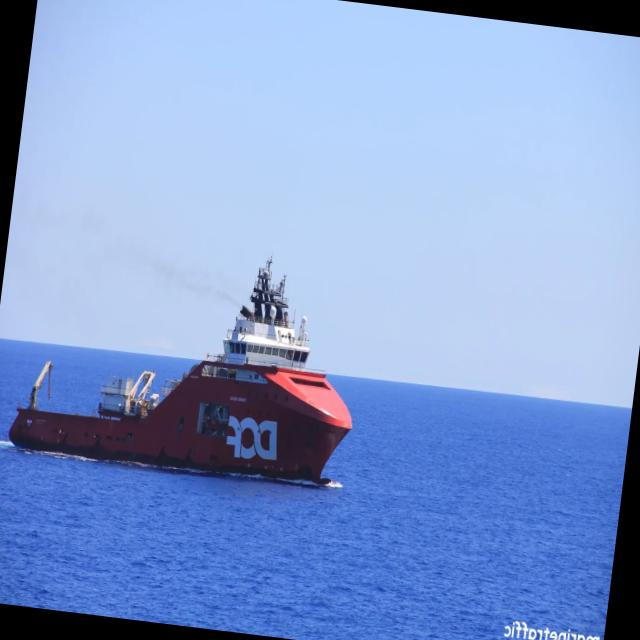Offshore: (9, 259, 352, 484)
